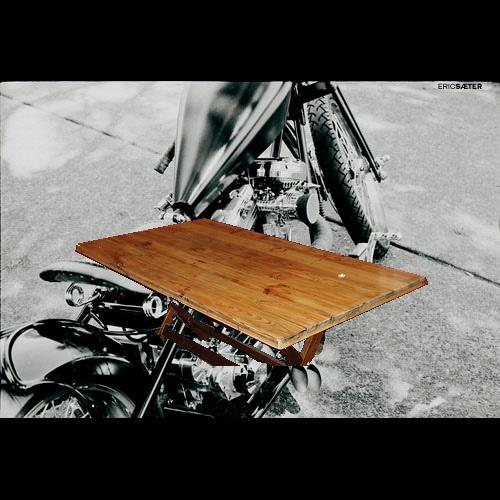tampered: (76, 219, 428, 366)
